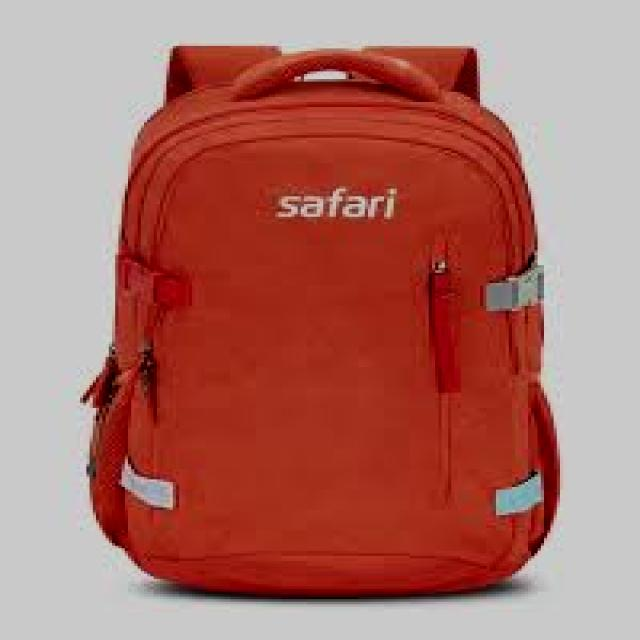backpack: (81, 44, 561, 598)
